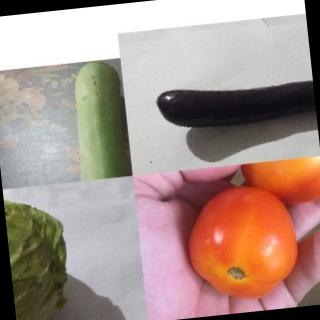Tomat: (178, 171, 320, 310)
